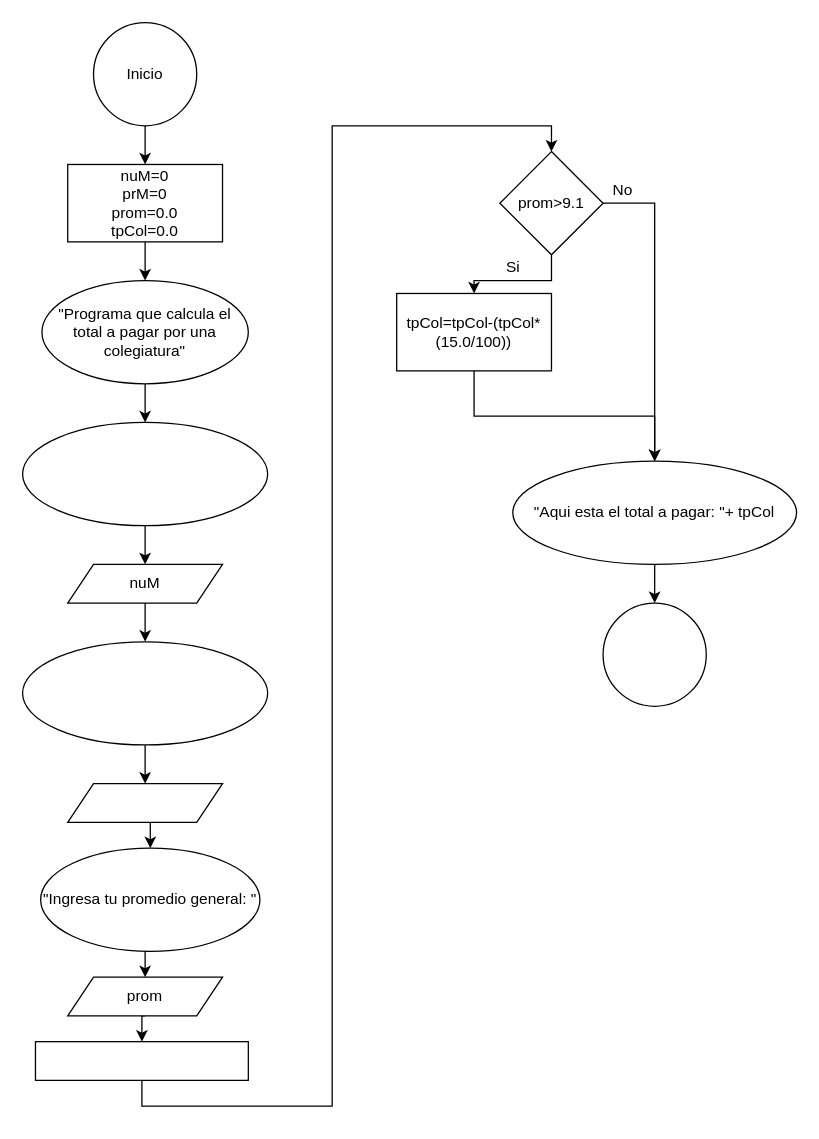
This 819x1139 diagram has some shape labels left out. The shapes that lost their labels are listed below. From the top down, each one's centre as x and y in pixels, then its label:
pixel 144 473: "Ingresa la cantidad de materias que se tiene: "
pixel 654 654: Fin
pixel 144 692: "Ingresa el precio de las materias: "
pixel 144 802: prM
pixel 141 1060: tpCol=nuM*prM
